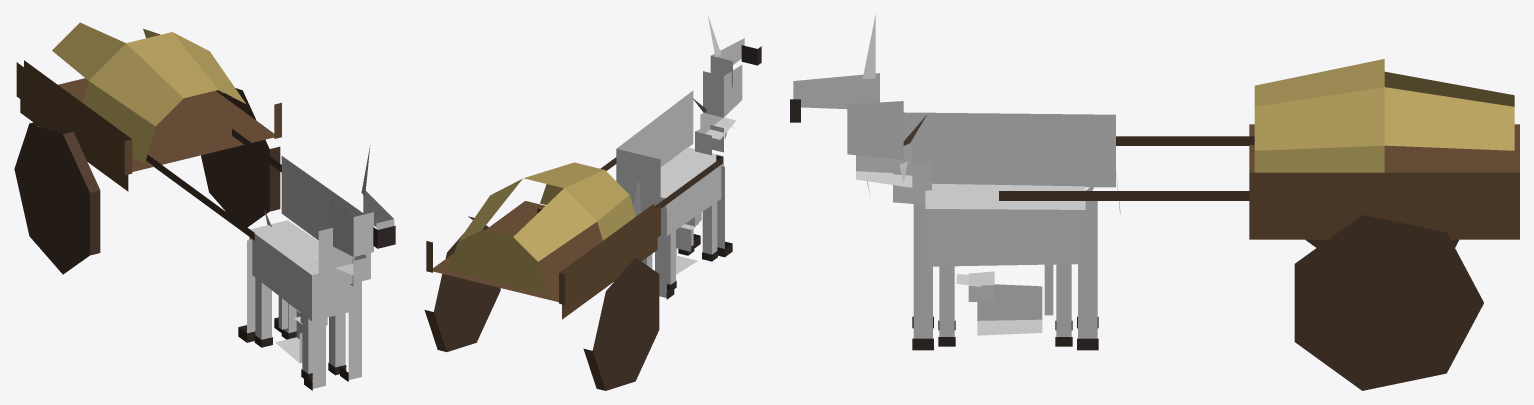
Rendered from life_beasts.glb.
The picture shows the model from 3 angles, left to right: view 1: azimuth 30°, elevation 25°; view 2: azimuth 150°, elevation 25°; view 3: azimuth 270°, elevation 25°; orthographic projection. The views are drawn at different scales.
Visible parts, largest first — view 1: donkey.cart, donkey.wheels, goat.body, donkey.body, donkey.head, donkey.leg_fl, donkey.leg_fr, goat.leg_hl, goat.leg_fr, donkey.leg_hl, goat.leg_fl, cat.body (+2 smaller); view 2: donkey.cart, donkey.wheels, donkey.body, goat.body, donkey.head, goat.head, goat.leg_fl, donkey.leg_hl, donkey.leg_fl, cat.body, goat.leg_hl; view 3: donkey.cart, donkey.wheels, donkey.body, goat.body, donkey.head, cat.body, goat.head, donkey.leg_hr, donkey.leg_fr, goat.leg_hr, goat.leg_fr.
Part boxes in pixels (x1,y1,x2,y2): donkey.cart: (16,22,281,240); donkey.wheels: (14,88,280,274); goat.body: (249,209,348,321); donkey.body: (281,156,370,291); donkey.head: (329,145,395,256); donkey.leg_fl: (304,287,325,390); donkey.leg_fr: (340,281,361,381); goat.leg_hl: (254,278,272,347); goat.leg_fr: (328,313,346,375); donkey.leg_hl: (238,239,255,342); goat.leg_fl: (301,314,312,380); cat.body: (275,311,302,363); donkey.cart: (426,155,722,319); donkey.wheels: (424,216,659,390); donkey.body: (616,90,693,214); goat.body: (635,147,723,235); donkey.head: (703,15,761,117); goat.head: (692,98,736,155); goat.leg_fl: (702,202,717,261); donkey.leg_hl: (655,208,674,299); donkey.leg_fl: (717,166,732,257); cat.body: (676,223,698,274); goat.leg_hl: (667,230,676,290); donkey.cart: (999,59,1519,239); donkey.wheels: (1294,215,1483,390); donkey.body: (903,112,1120,213); goat.body: (925,183,1095,266); donkey.head: (790,14,903,159); cat.body: (968,271,1042,335); goat.head: (856,115,931,204); donkey.leg_hr: (1077,214,1098,350); donkey.leg_fr: (912,214,933,350); goat.leg_hr: (1055,264,1072,346); goat.leg_fr: (938,266,955,346).
Bounding box in the file's own units: 1.27 × 1.58 × 3.37.
